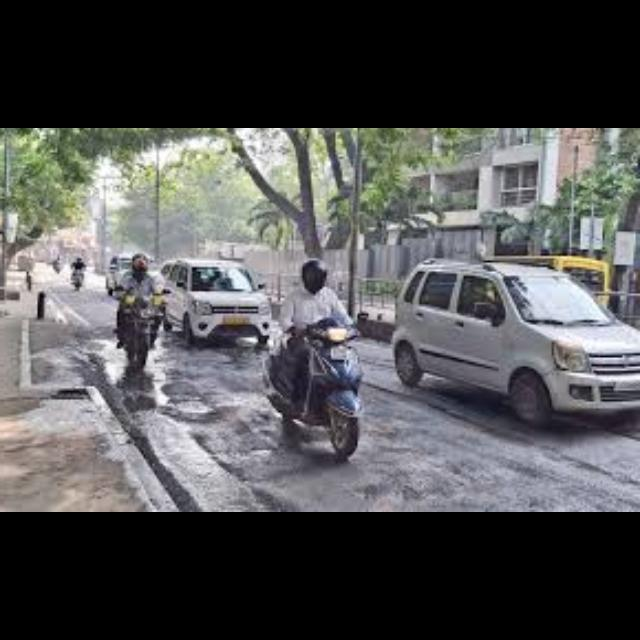vehicles: (398, 254, 640, 424), (262, 317, 366, 453), (160, 256, 274, 344), (113, 292, 161, 370)
